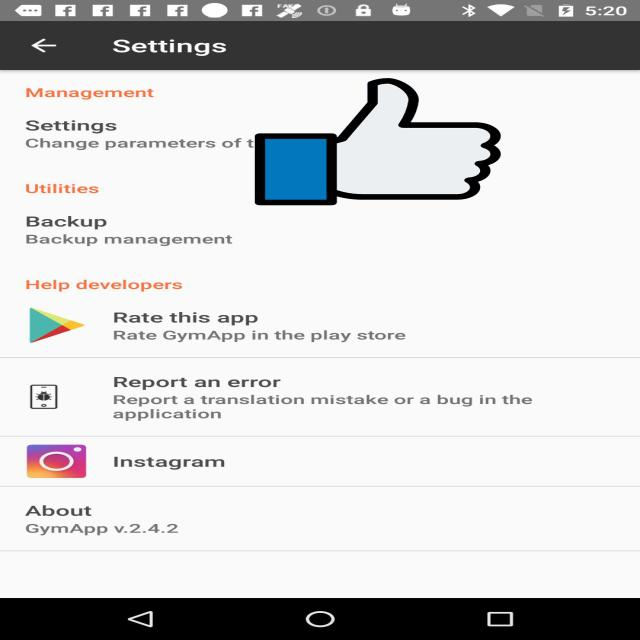privacy zuckering: (255, 75, 501, 208)
